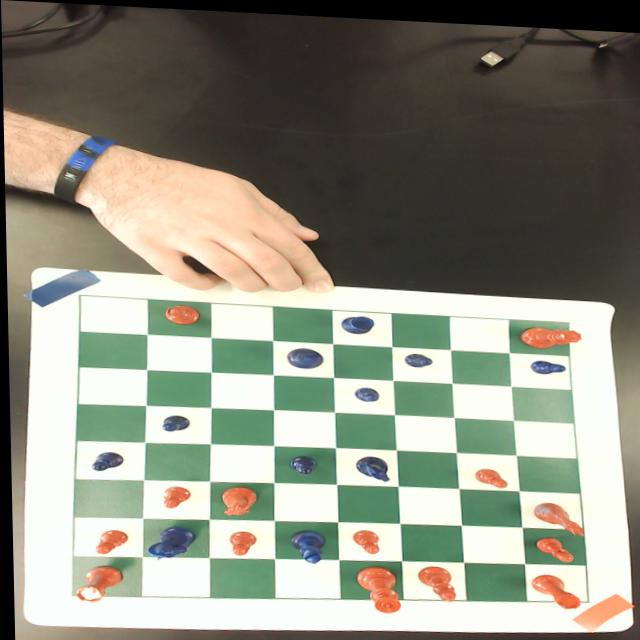B: (285, 526, 322, 562)
K: (284, 344, 323, 366)
N: (142, 523, 193, 560), (352, 452, 387, 478)
P: (86, 450, 123, 472), (285, 451, 314, 472), (157, 412, 189, 431), (527, 354, 564, 370), (401, 348, 431, 364), (351, 383, 377, 399)
R: (337, 312, 373, 331)
b: (412, 561, 453, 598), (160, 302, 198, 325)
cb: (68, 295, 585, 596)
k: (352, 561, 397, 610)
n: (527, 496, 581, 531), (212, 483, 255, 515)
p: (532, 530, 572, 557), (90, 528, 126, 554), (348, 525, 378, 551), (158, 483, 189, 508), (225, 528, 254, 554), (472, 462, 506, 484)
q: (517, 320, 581, 344)
r: (68, 564, 122, 603), (527, 567, 579, 603)
